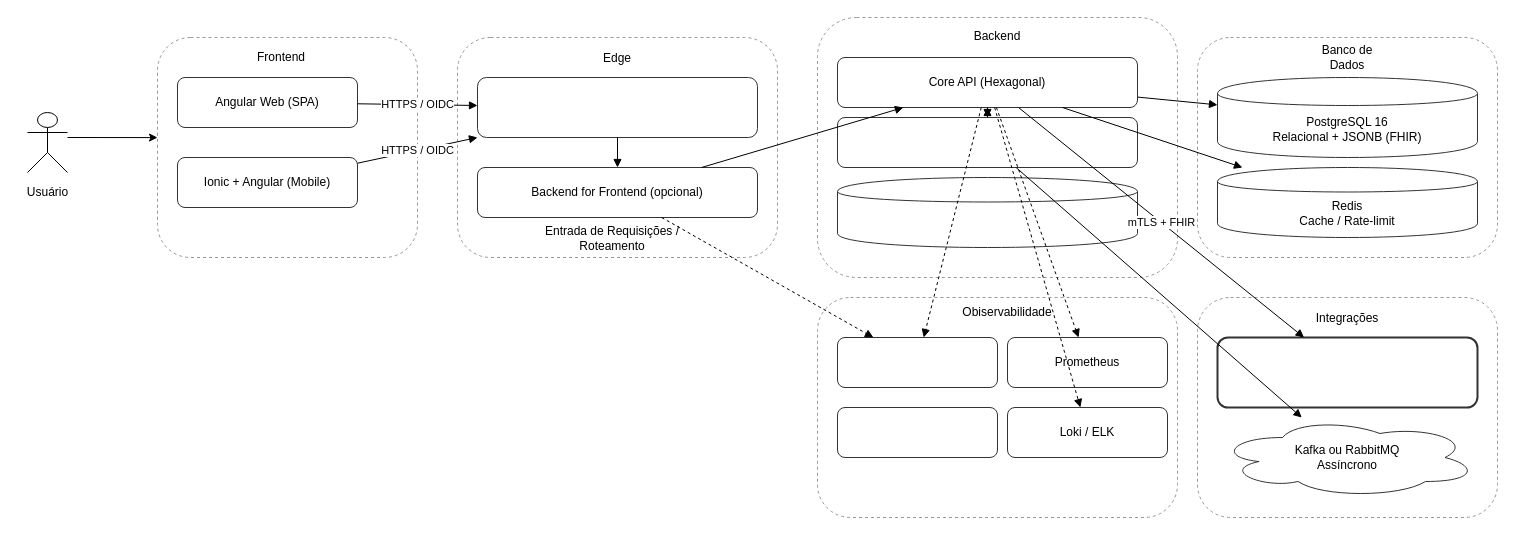
Image size: 1515x535. Some labels were removed from this diagram. Each missing label, with the centre of its shape:
"API Gateway / Ingress (NGINX ou Spring Cloud Gateway)" goes at pixel 617 107.
"Domínios / Use Cases" goes at pixel 987 142.
"Grafana" goes at pixel 917 432.
"OpenTelemetry" goes at pixel 917 362.
"Outbox / CQRS views" goes at pixel 987 212.
"RNDS APIs (FHIR R4 + mTLS)" goes at pixel 1347 372.
